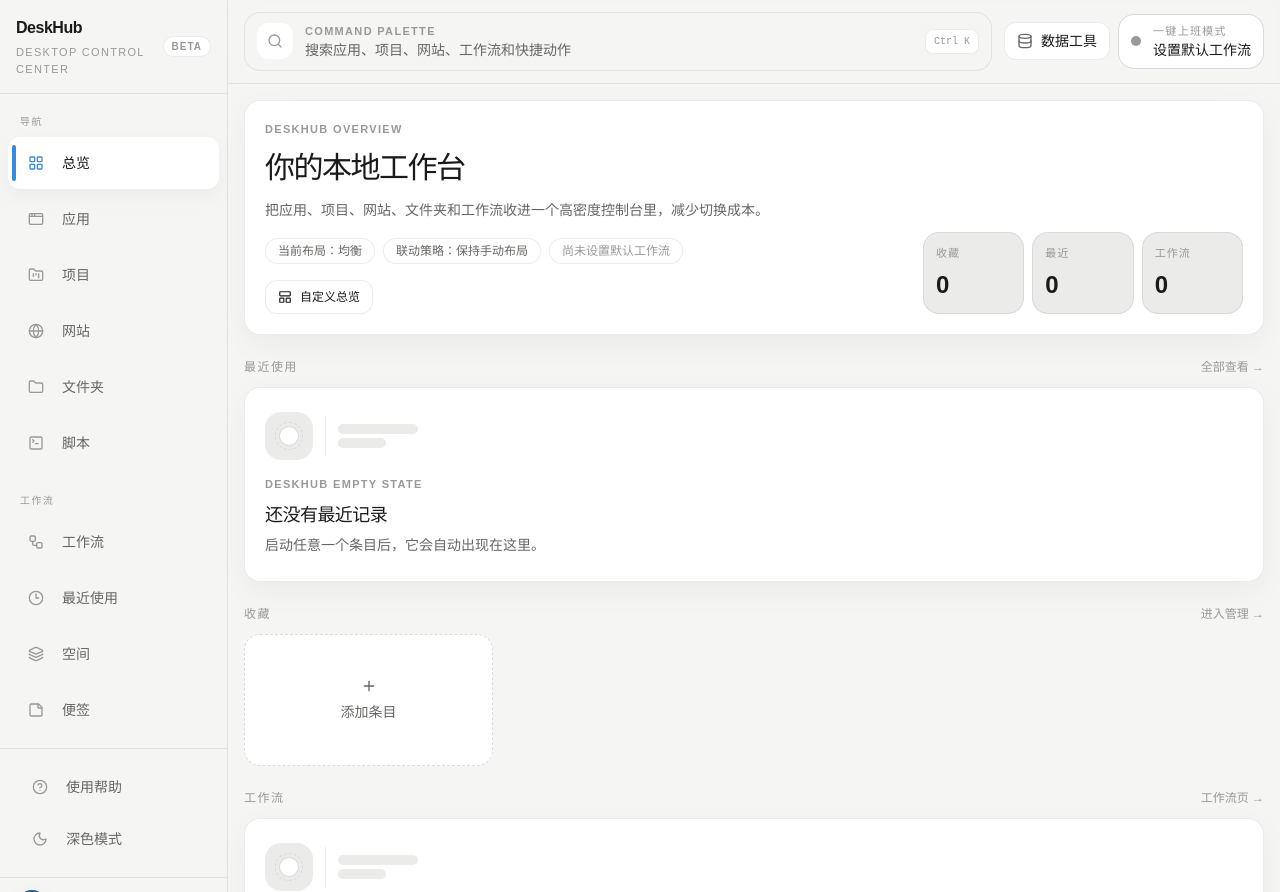
Test: AppRouter › can open data tools from the command palette and record action history
This screenshot has width=1280, height=892.
Expected: the button "添加条目" is shown, [244,634,493,766]
Press k
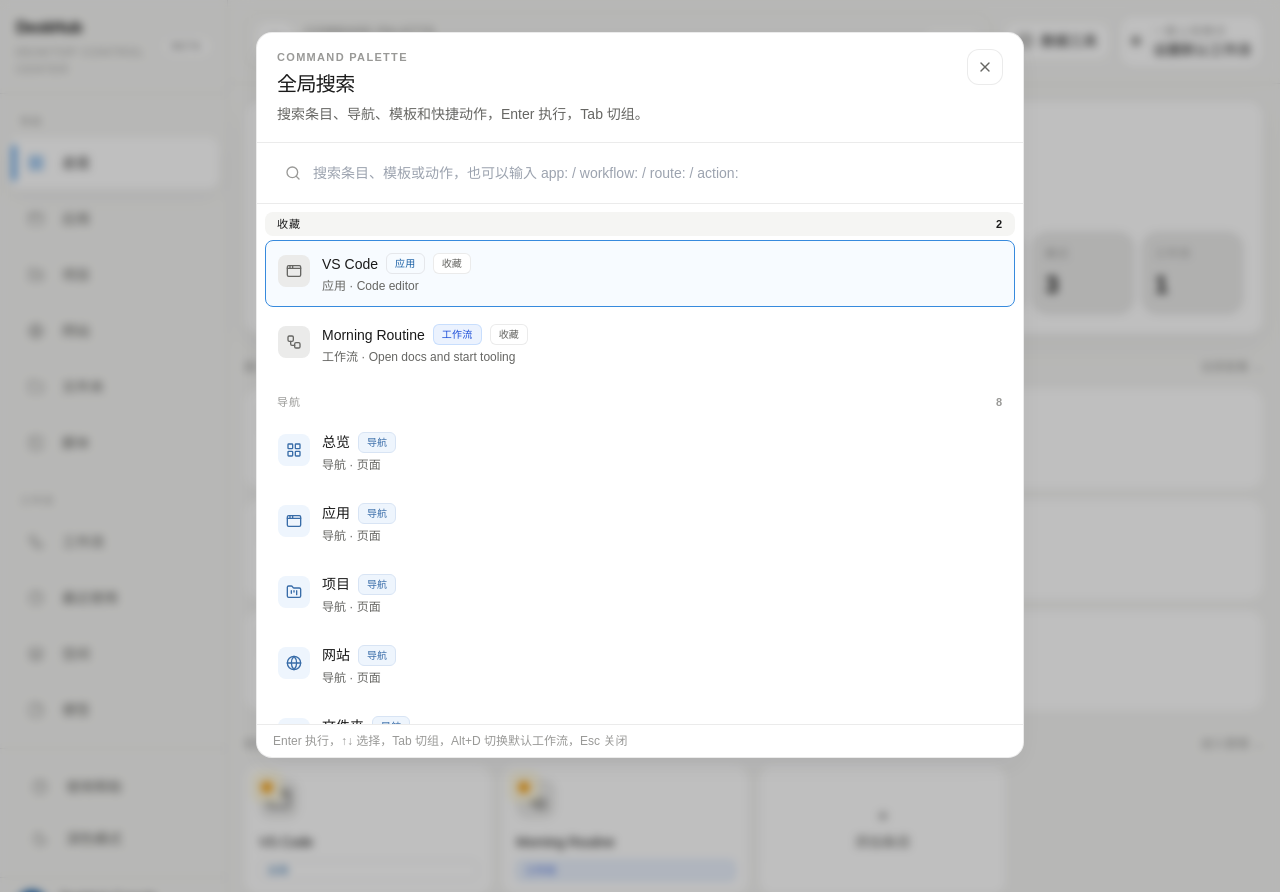
Type "数据工具" into the dropdown named "全局搜索".
click(640, 172); type("数据工具")  # box [273,154,1007,190]
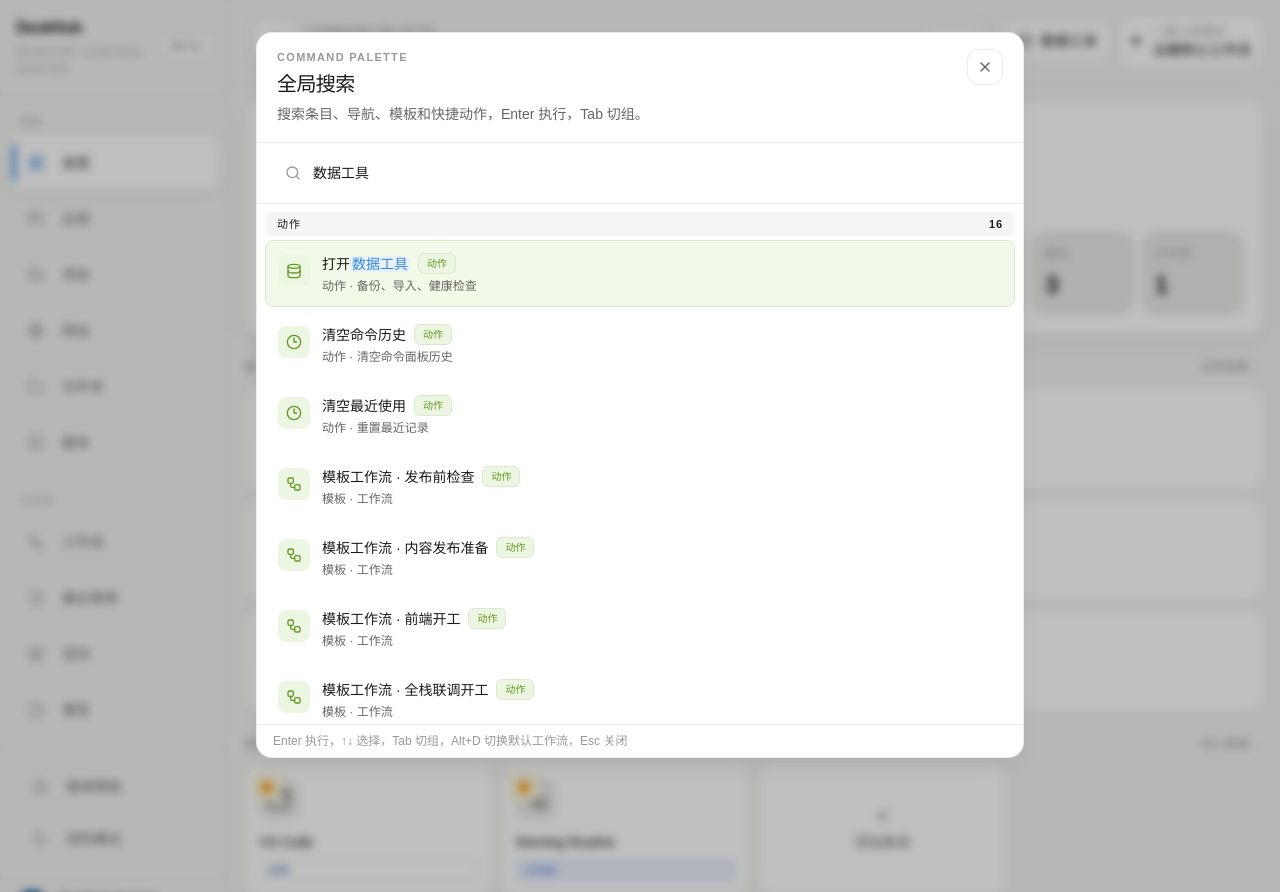
Click the option "打开数据工具 动作 动作 · 备份、导入、健康检查".
click(294, 271)  # box [265,240,1015,307]
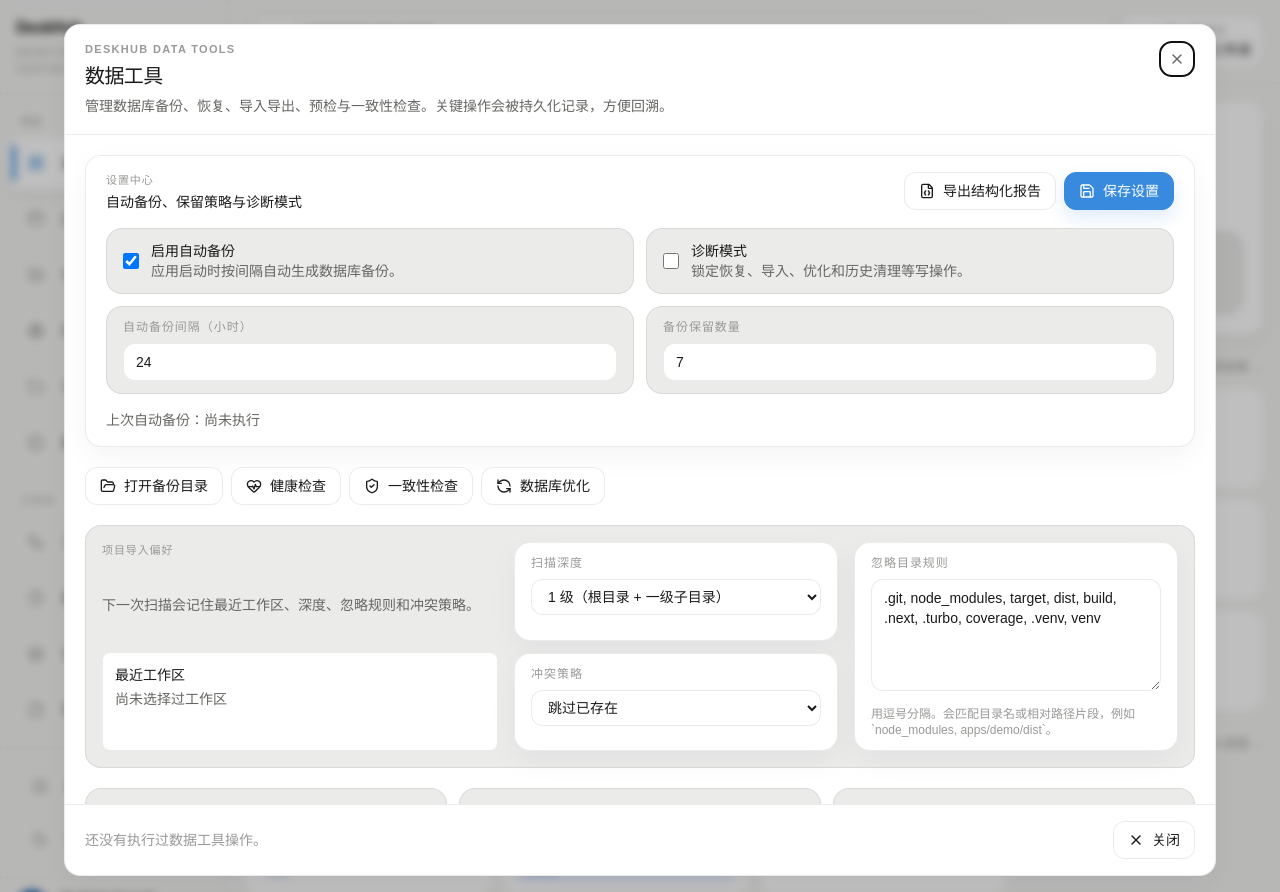
Result: the heading "数据工具" is shown at [85,64,163,86]
